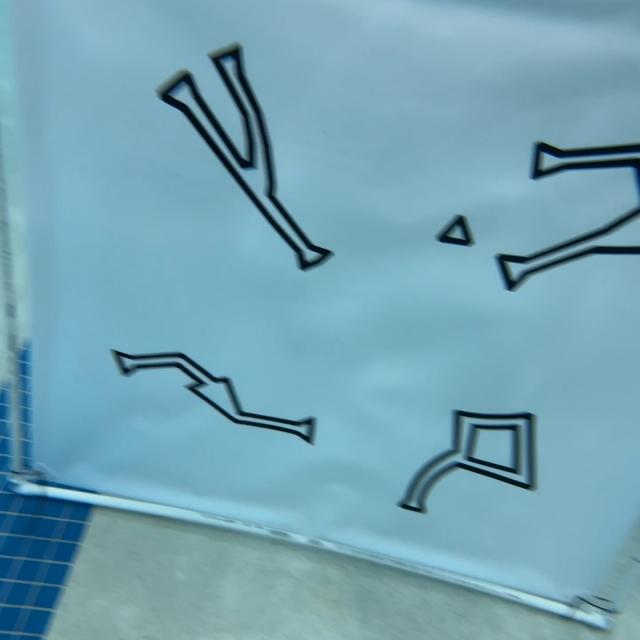abydos: (152, 38, 335, 272), (108, 347, 318, 446)
buoy: (0, 0, 640, 606)
earth: (432, 138, 640, 293), (394, 407, 539, 517)
